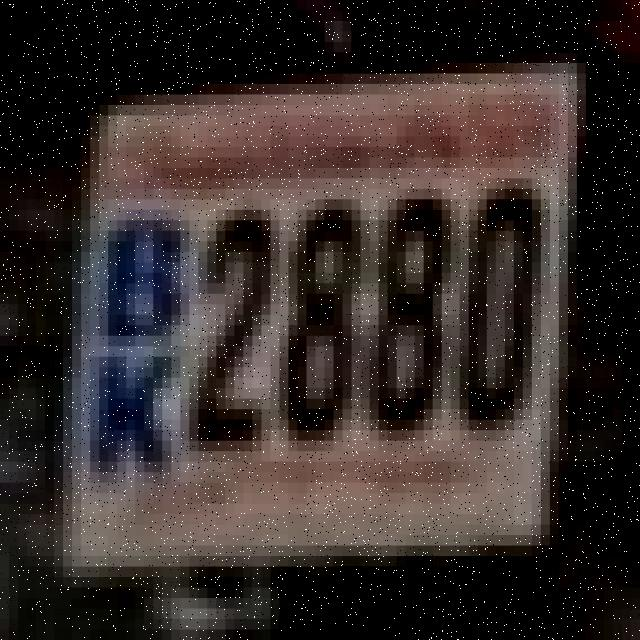licenseplate: (54, 77, 600, 592)
